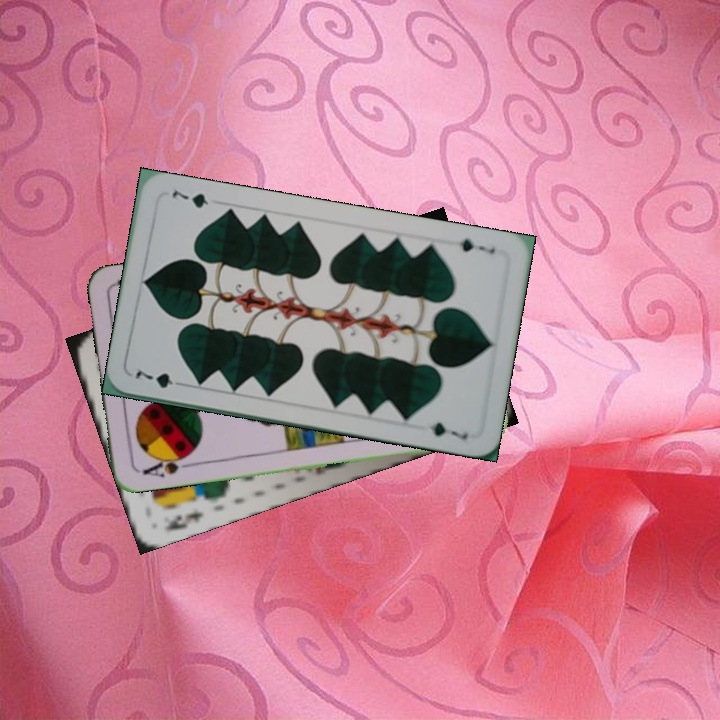EK: (160, 507, 206, 533)
G7: (131, 365, 189, 391), (455, 234, 498, 257)
SA: (138, 449, 195, 481)
